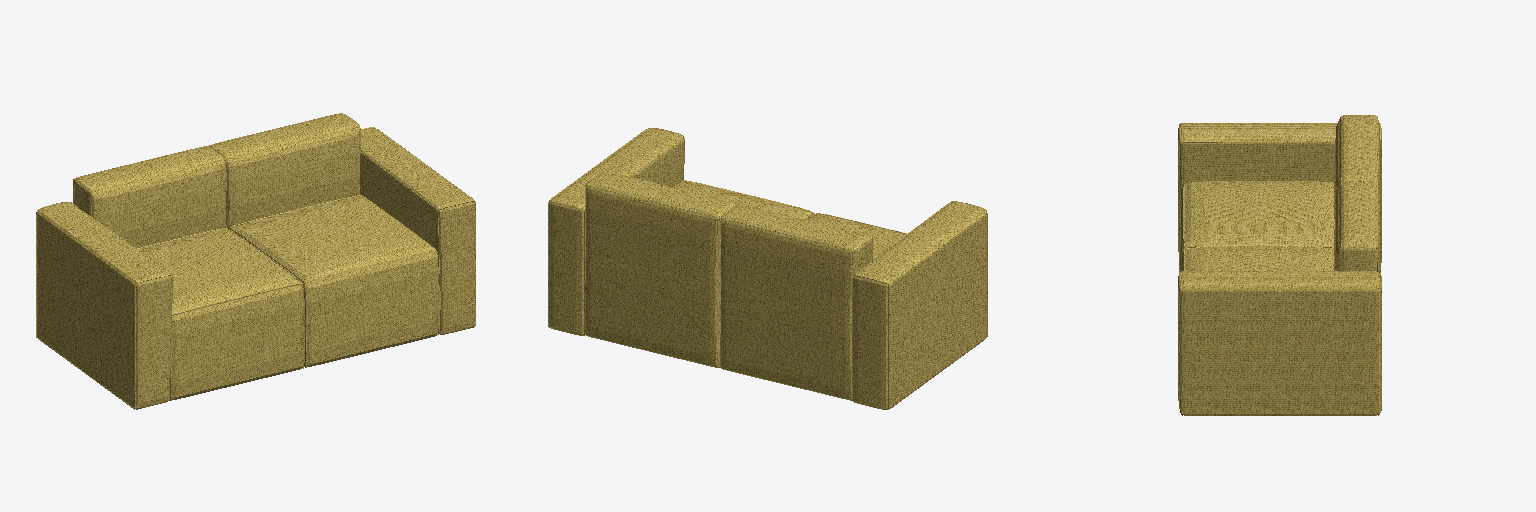
The picture shows the model from 3 angles: view 1: azimuth 30°, elevation 25°; view 2: azimuth 150°, elevation 25°; view 3: azimuth 270°, elevation 25°; orthographic projection.
Parts seen in each view (by area): view 1: Box854; view 2: Box854; view 3: Box854.
Boxes of the visible parts, x1,y1,x2,y2 form: Box854: [36, 113, 475, 409]; Box854: [548, 128, 987, 409]; Box854: [1178, 115, 1381, 415].
Bounding box in the file's own units: 161 × 69.78 × 83.17.
Materials: 1 (1 with a texture image).